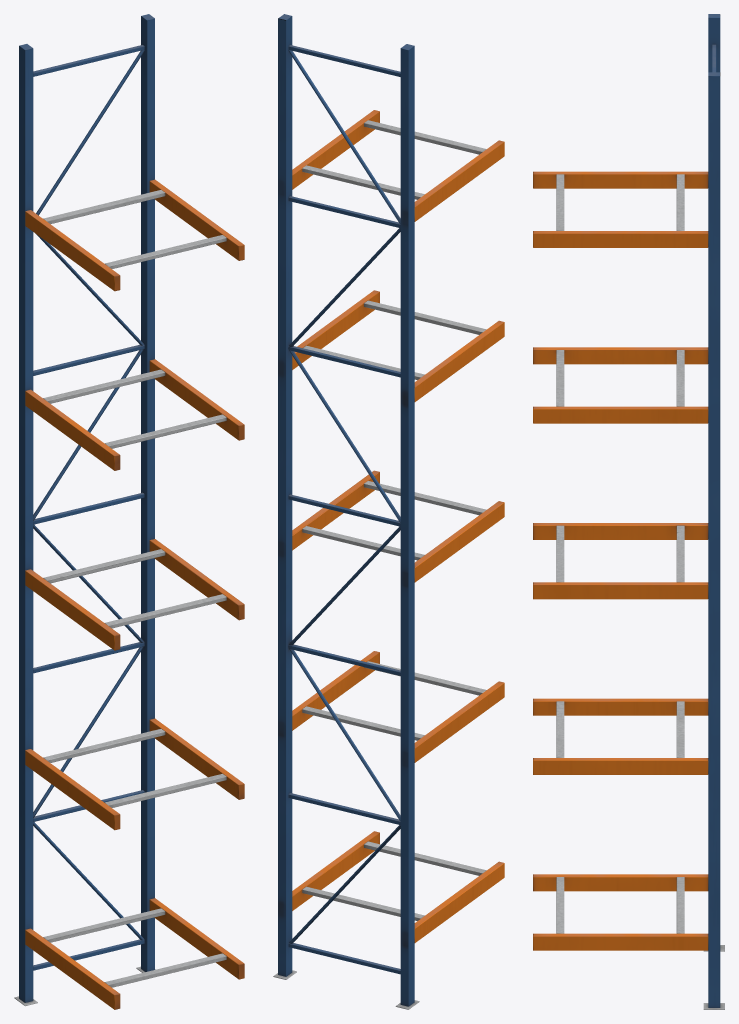
The model's file is Rack_Bay.fbx.
3 renders of one model, left to right at view 1: azimuth 30°, elevation 25°; view 2: azimuth 150°, elevation 25°; view 3: azimuth 270°, elevation 25°, orthographic. The views are drawn at different scales.
Visible parts, largest first — view 1: Rack_Bay_LOD0; view 2: Rack_Bay_LOD0; view 3: Rack_Bay_LOD0.
Part boxes in pixels (bbox=[...]): Rack_Bay_LOD0: bbox=[14, 14, 244, 1009]; Rack_Bay_LOD0: bbox=[273, 14, 504, 1009]; Rack_Bay_LOD0: bbox=[533, 14, 724, 1009].
Size of what is drawn, in the model's own units: 1.14 by 7.7 by 1.44.
Materials: 1 (1 with a texture image).
